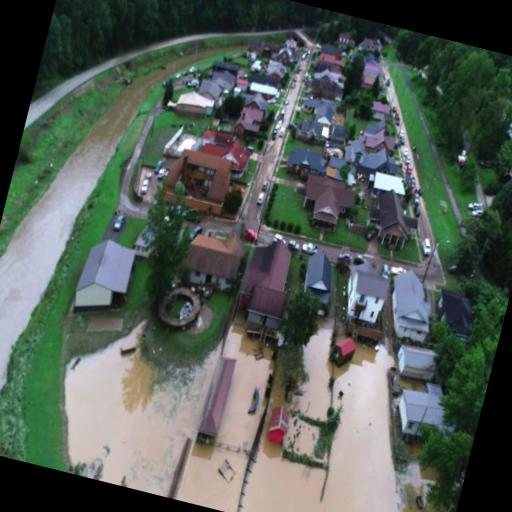flood: (0, 49, 233, 394), (244, 343, 447, 512), (65, 316, 222, 498), (173, 318, 276, 512), (298, 329, 351, 421), (276, 377, 321, 455), (260, 380, 285, 464)
house: (229, 230, 301, 338), (66, 230, 139, 322), (171, 136, 244, 217), (377, 268, 445, 350), (389, 376, 456, 446), (179, 226, 245, 294), (193, 352, 239, 445), (336, 256, 394, 328), (296, 173, 356, 237), (365, 188, 419, 254), (297, 246, 342, 314), (430, 287, 482, 344), (390, 338, 444, 384), (170, 84, 218, 122), (284, 145, 326, 180), (236, 92, 270, 135), (368, 167, 406, 201), (298, 96, 338, 127), (264, 404, 293, 446), (356, 56, 385, 93), (358, 124, 389, 158), (206, 57, 240, 87), (310, 66, 340, 99), (329, 335, 359, 368), (248, 69, 280, 98), (296, 118, 324, 146), (318, 42, 344, 70), (370, 99, 394, 124), (274, 44, 294, 66)
